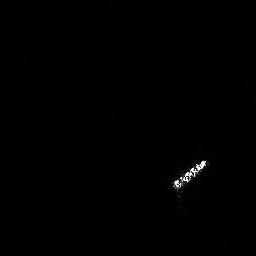ship: (169, 156, 211, 192)
